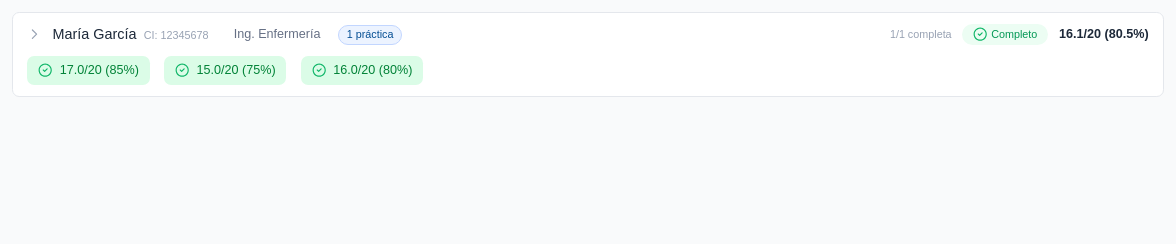
Test: EvaluationCard — Read-only › permite expandir en modo solo lectura
The image size is (1176, 244).
What coordinates should you click on to do the following:
click the button with aria-label "expandir"
I would click on:
 (95, 34)
Its box is [13,13,1163,56].
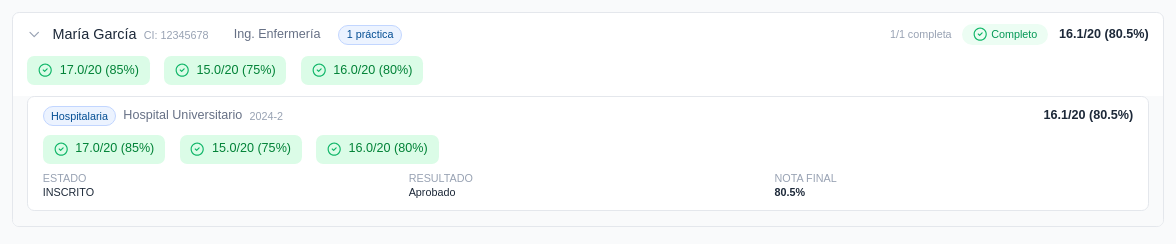
Expected: the text "Hospital Universitario" is shown, [123,107,242,125]
